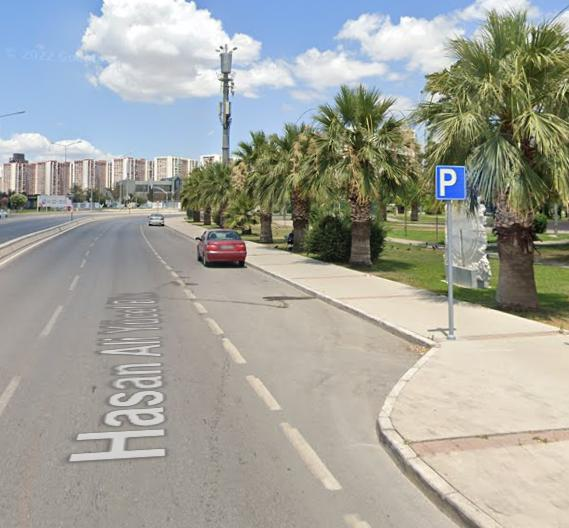park: (436, 165, 464, 202)
